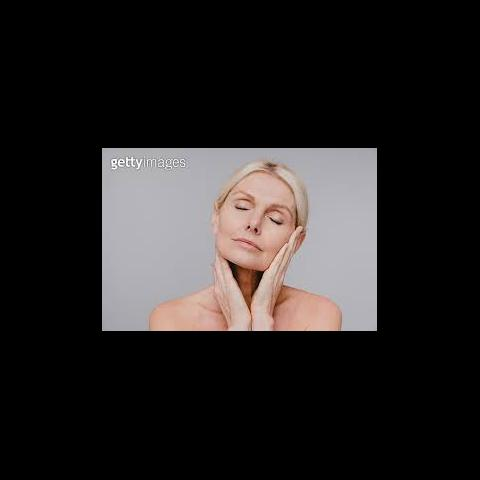closed: (230, 185, 296, 231)
